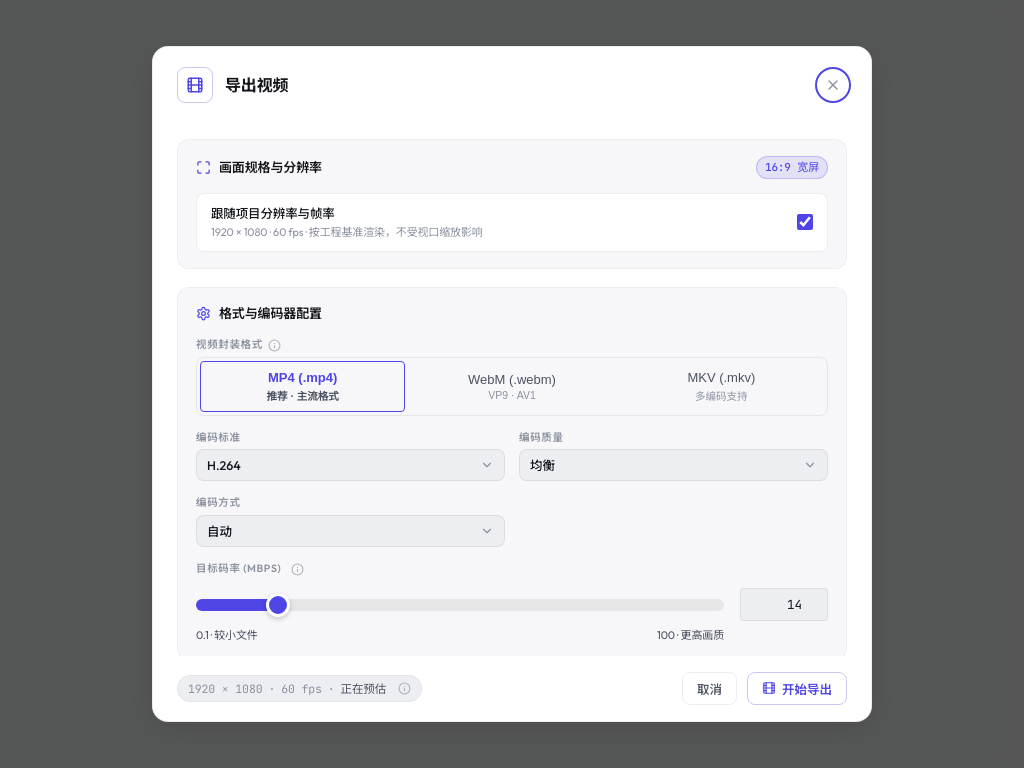
Scenario: ExportDialog cancellation › syncs the bitrate slider with precise input and exports the dragged value
Replace the text in the number field labelled "目标码率 (Mbps)" with "125.5": {"x": 784, "y": 605} [740,588,828,621]
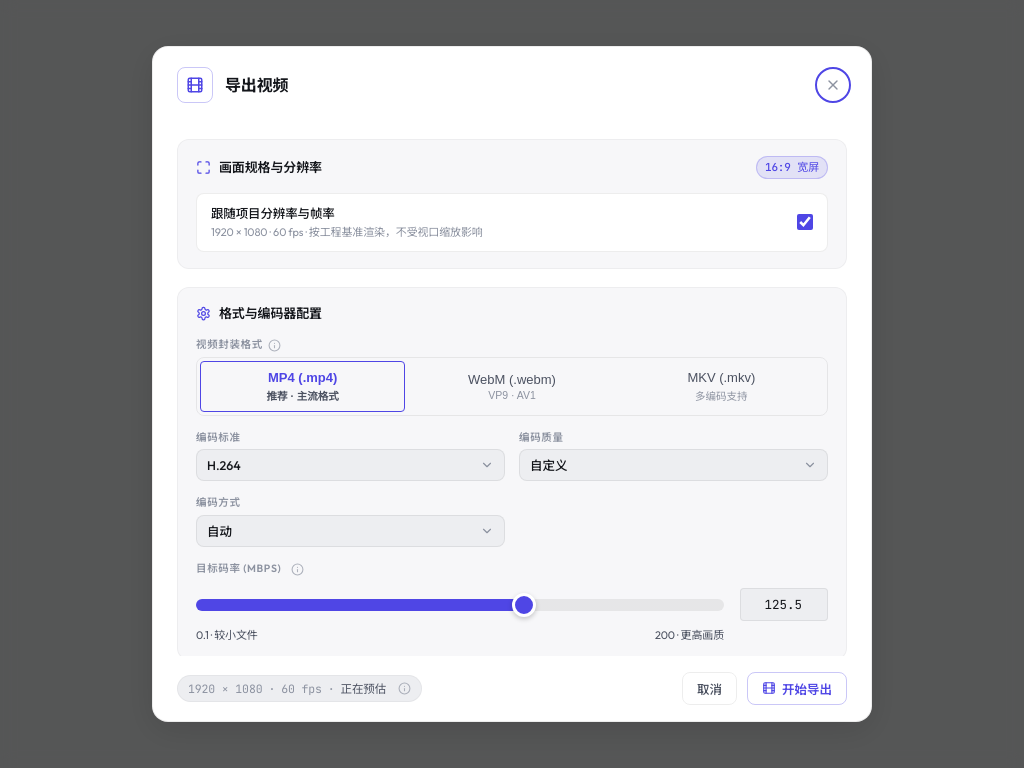
Result: the slider named "目标码率滑块 (Mbps)" holds "125.5"
Set the slider named "目标码率滑块 (Mbps)" to "18.5": {"x": 251, "y": 605} [196,587,724,623]
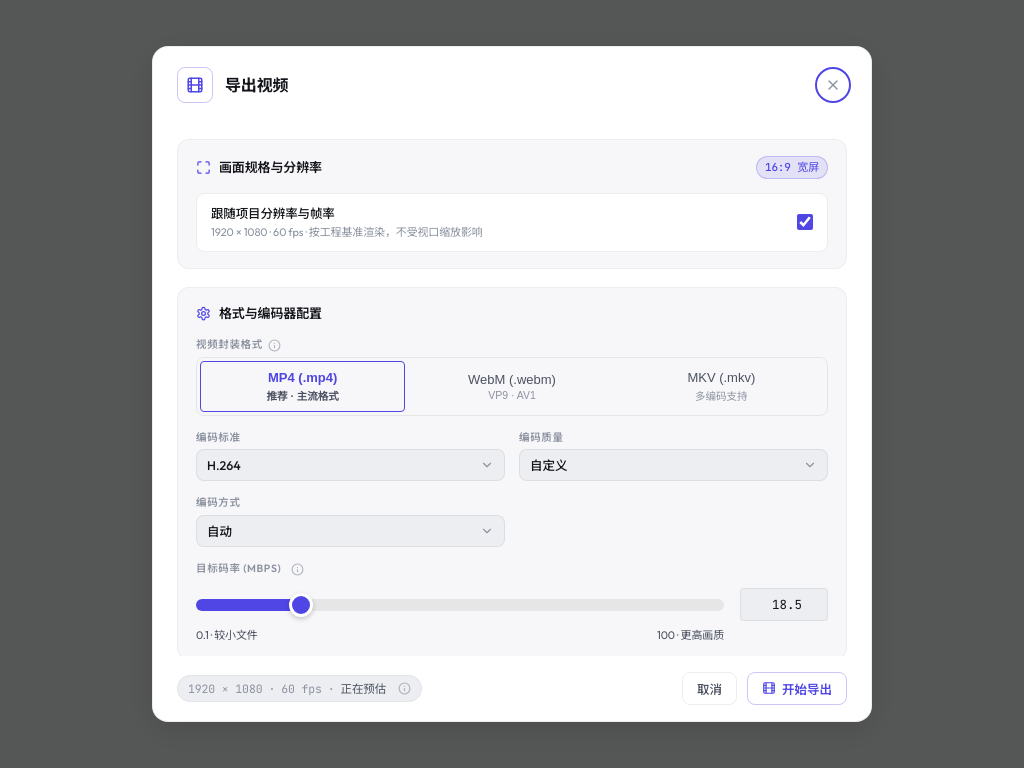
Result: the number field labelled "目标码率 (Mbps)" holds "18.5" at [740,588,828,621]
Click the button "开始导出": {"x": 797, "y": 688} [747,672,847,705]
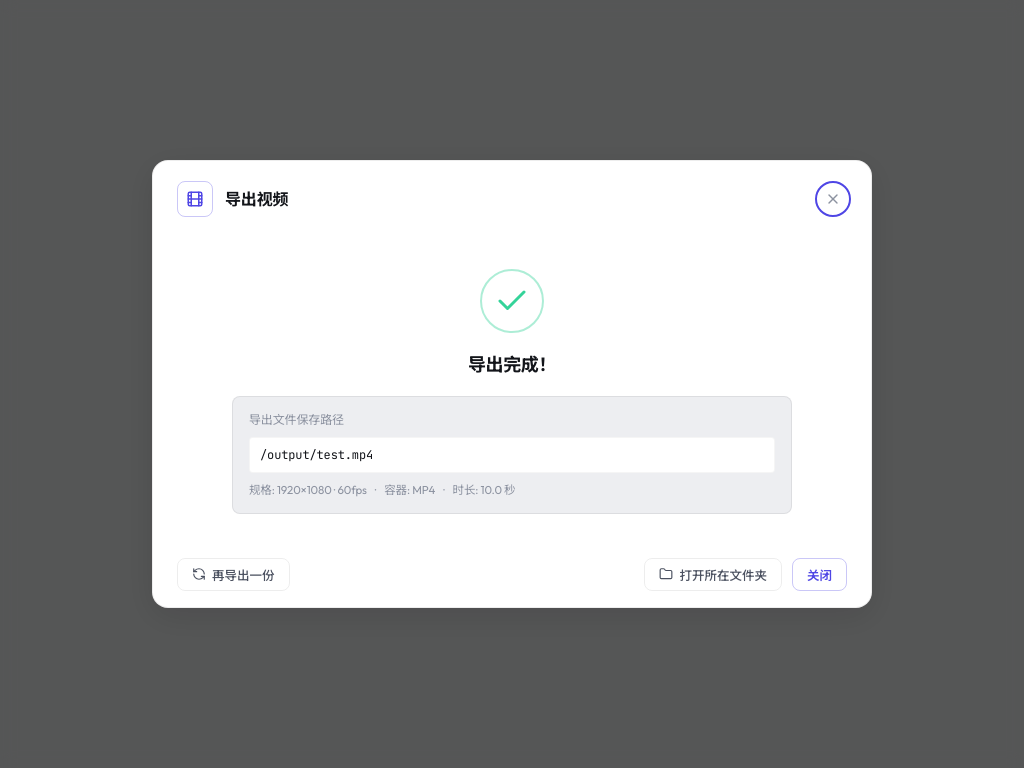
Result: the button "关闭" is shown at [792,558,847,591]
